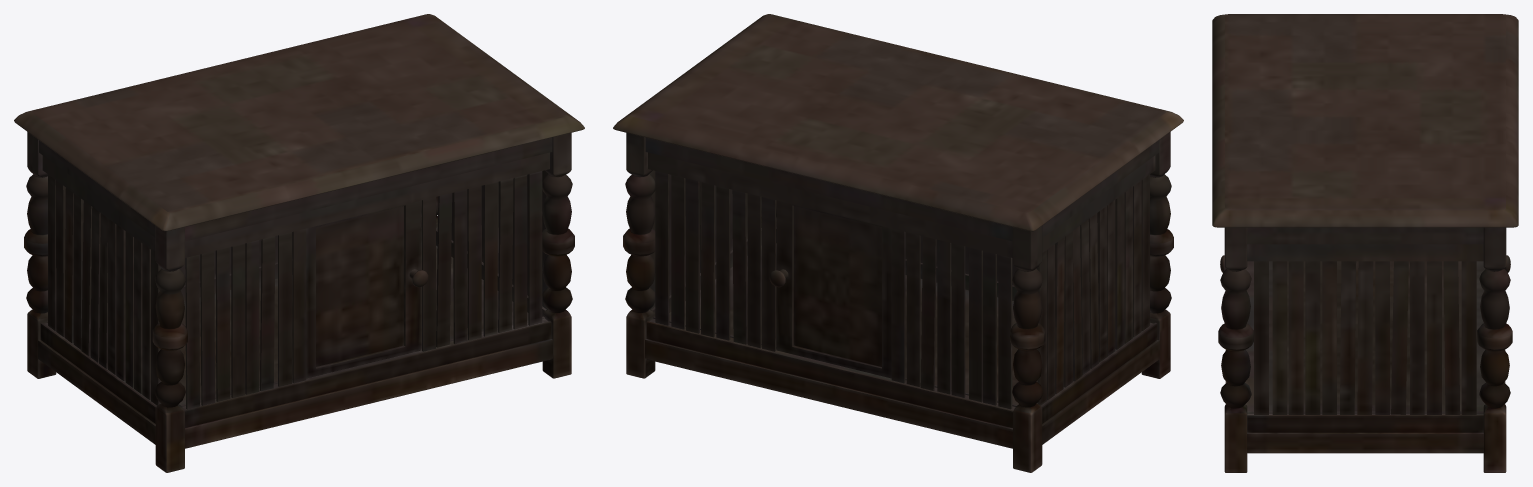
3 views of the same model, side by side, from view 1: azimuth 30°, elevation 25°; view 2: azimuth 150°, elevation 25°; view 3: azimuth 270°, elevation 25° (orthographic).
Parts seen in each view (by area): view 1: gallinera_table, gallinera_table_door_a; view 2: gallinera_table, gallinera_table_door_b; view 3: gallinera_table.
Boxes of the visible parts, <box> form: gallinera_table: <box>14,14,584,472</box>; gallinera_table_door_a: <box>306,200,428,378</box>; gallinera_table: <box>613,14,1183,472</box>; gallinera_table_door_b: <box>769,200,891,378</box>; gallinera_table: <box>1212,14,1518,472</box>.
Bounding box in the file's own units: 0.8301 × 0.4878 × 0.5183.
1 material, 1 textured.
